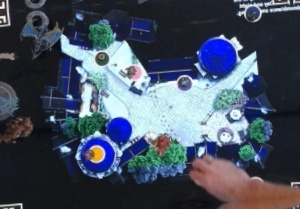blue: (244, 2, 266, 23)
green: (92, 47, 113, 70)
pink: (123, 61, 144, 82)
violet: (172, 69, 196, 94)
yellow: (83, 140, 107, 163)
